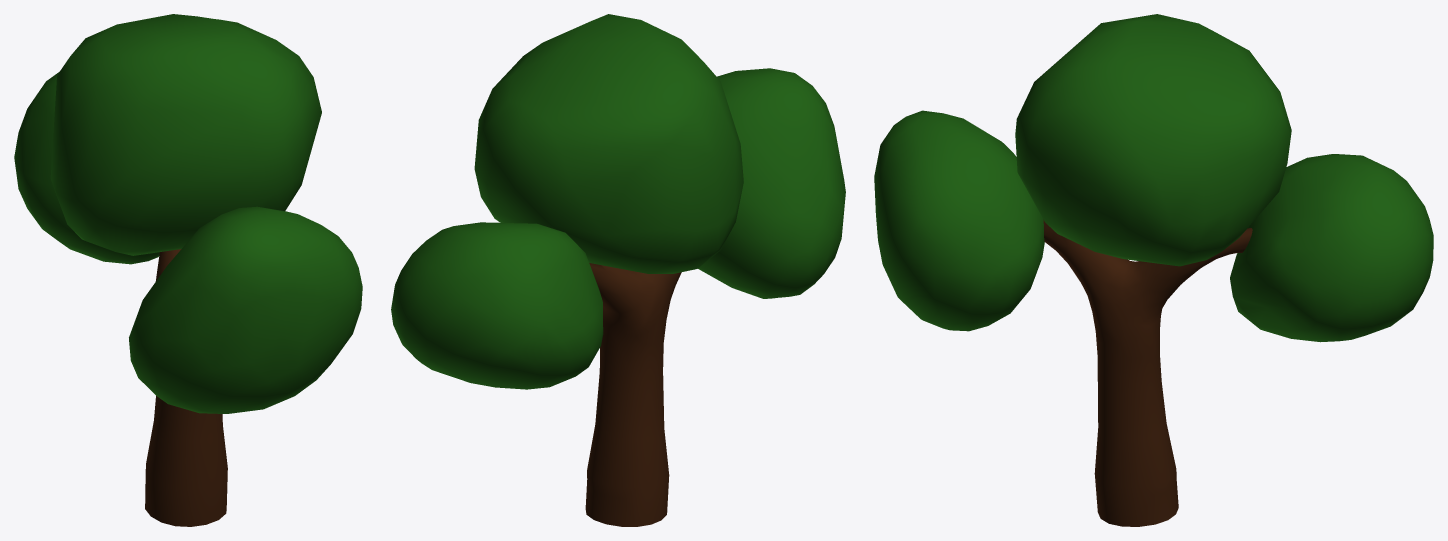
The model's file is Tree2.fbx.
3 views of the same model, side by side, from view 1: azimuth 30°, elevation 25°; view 2: azimuth 150°, elevation 25°; view 3: azimuth 270°, elevation 25° (orthographic).
Visible parts, largest first — view 1: Sphere.006, Sphere.004, Trunk2, Sphere.007; view 2: Sphere.006, Sphere.007, Sphere.004, Trunk2; view 3: Sphere.006, Sphere.007, Sphere.004, Trunk2.
Boxes of the visible parts, x1,y1,x2,y2 form: Sphere.006: (50, 14, 321, 255); Sphere.004: (129, 206, 362, 413); Trunk2: (145, 249, 227, 526); Sphere.007: (14, 72, 159, 264); Sphere.006: (474, 14, 743, 273); Sphere.007: (391, 222, 603, 389); Sphere.004: (698, 68, 845, 298); Trunk2: (585, 263, 681, 526); Sphere.006: (1015, 14, 1291, 266); Sphere.007: (1230, 154, 1433, 342); Sphere.004: (874, 110, 1044, 331); Trunk2: (1043, 219, 1252, 526).
Size of the model in its own units: 286 by 513 by 544.
